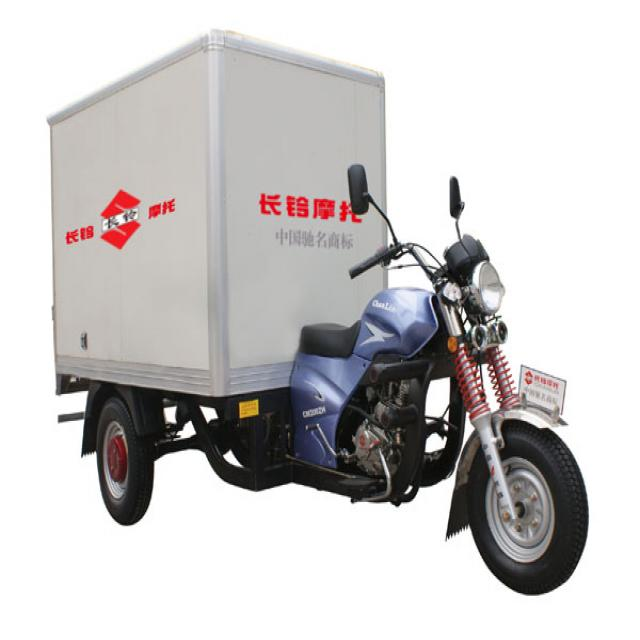tricycle: (45, 24, 590, 595)
